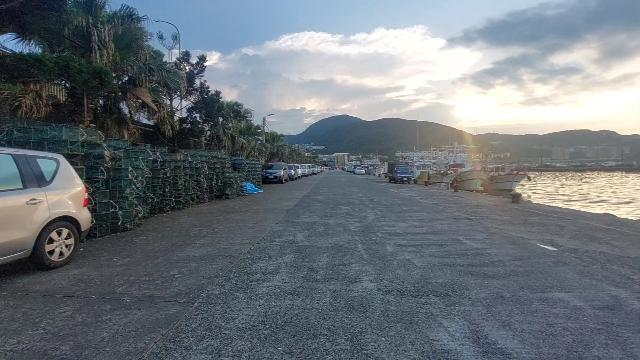pollute: (241, 183, 262, 192)
